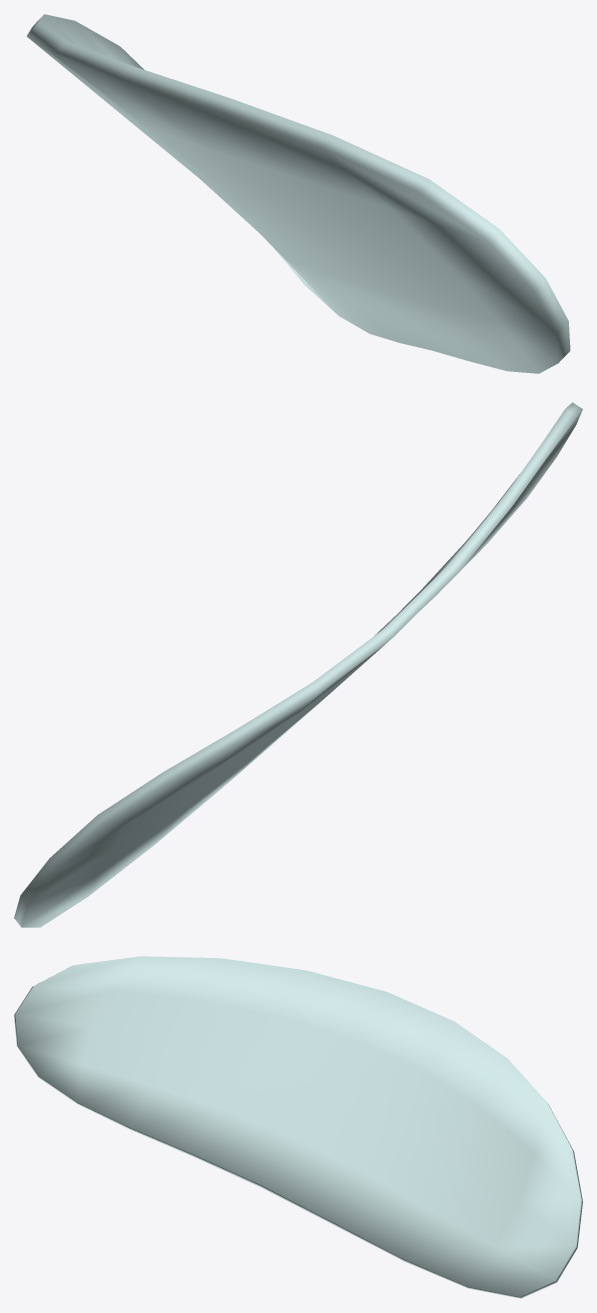
File: Acromioclavicular_joint_articular_disc_right.glb
3 views of the same model, one above another, from view 1: azimuth 30°, elevation 25°; view 2: azimuth 150°, elevation 25°; view 3: azimuth 270°, elevation 25° (orthographic). The views are drawn at different scales.
Visible parts, largest first — view 1: Articular_disc_of_acromioclavicular_joint.r_Cube.058; view 2: Articular_disc_of_acromioclavicular_joint.r_Cube.058; view 3: Articular_disc_of_acromioclavicular_joint.r_Cube.058.
Boxes of the visible parts, bbox=[...] form: Articular_disc_of_acromioclavicular_joint.r_Cube.058: bbox=[26, 14, 570, 373]; Articular_disc_of_acromioclavicular_joint.r_Cube.058: bbox=[14, 402, 582, 927]; Articular_disc_of_acromioclavicular_joint.r_Cube.058: bbox=[14, 956, 582, 1298].
Bounding box in the file's own units: 0.0117 × 0.0141 × 0.0282.
